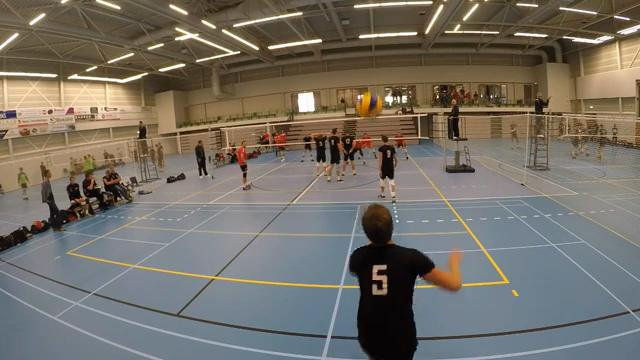Player: (378, 135, 397, 201), (325, 128, 342, 181), (341, 133, 356, 175), (237, 141, 250, 189), (312, 134, 326, 175), (361, 133, 376, 157), (395, 132, 408, 159), (354, 139, 365, 164), (301, 134, 311, 161)
Serve: (346, 198, 462, 359)
ball: (356, 92, 382, 120)
